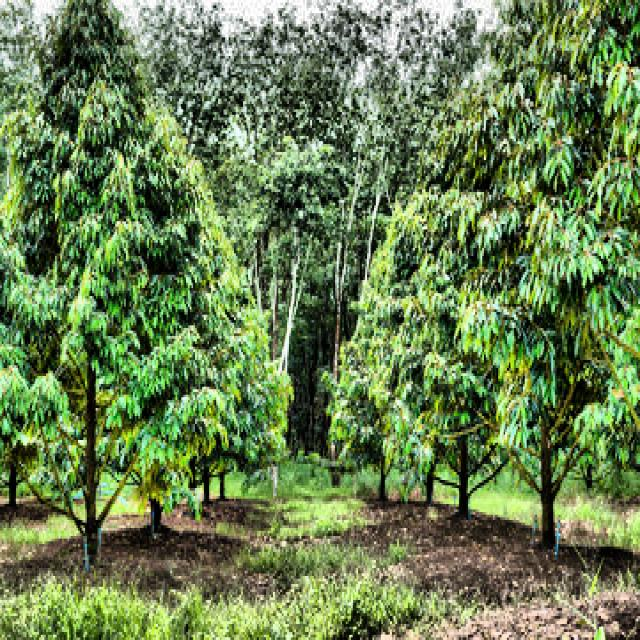arvore: (70, 249, 113, 586), (528, 295, 572, 575), (451, 365, 481, 534), (142, 378, 170, 559), (190, 404, 217, 517), (415, 416, 441, 530), (371, 416, 392, 514)
